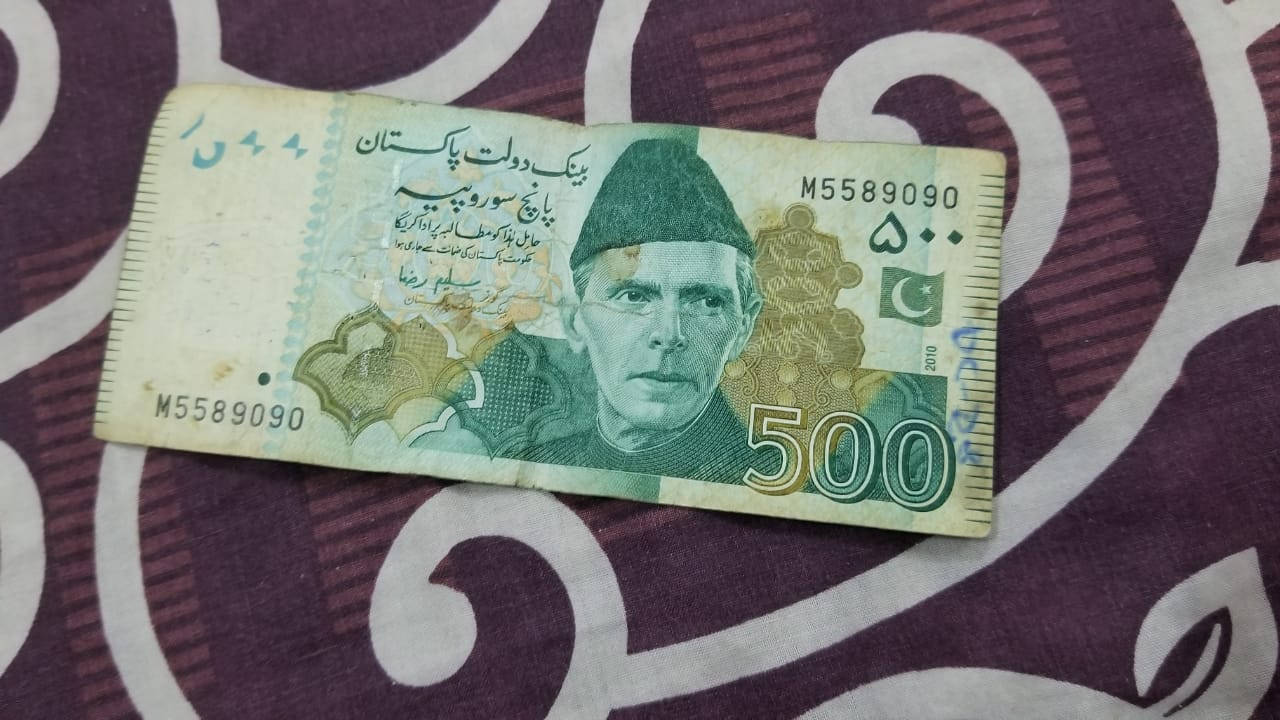500 rupee: (72, 60, 1048, 554)
